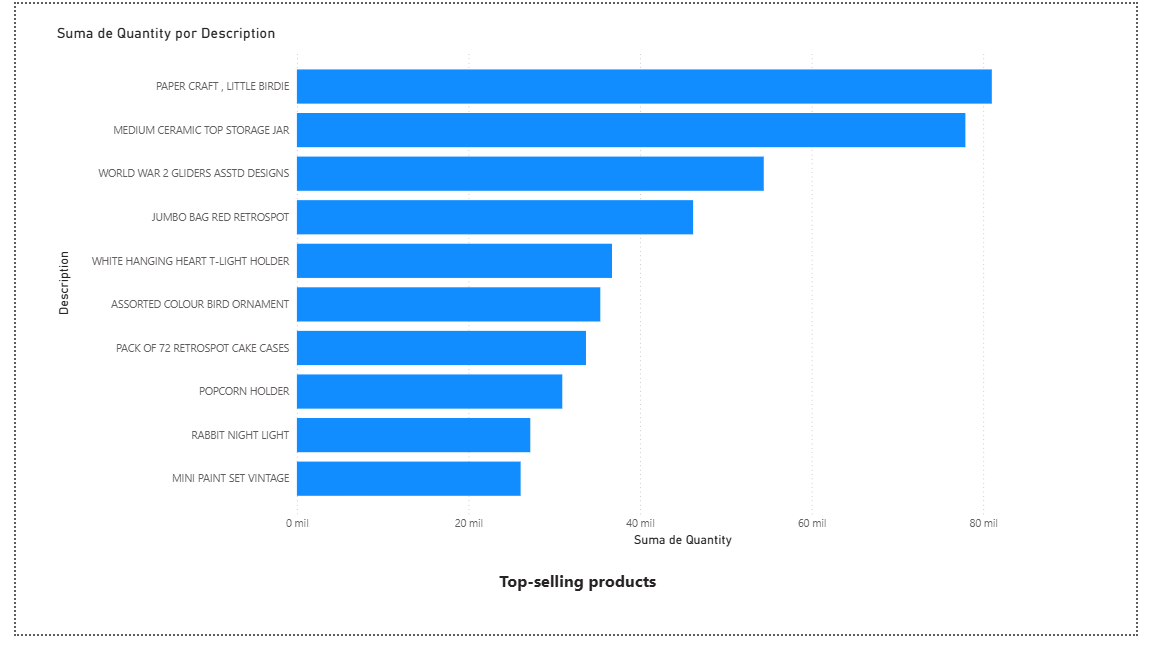

The dashboard page shown, as its layout file describes it:
{"tool":"powerbi","page":{"name":"Top productos","canvas":[1280,720],"ordinal":2},"visuals":[{"type":"barChart","fields":{"Y":["Sum(top_products.Quantity)"],"Category":["top_products.Description"]},"box":[41.4,22.9,1184.3,602.9],"z":0},{"type":"textbox","box":[547.1,641.4,211.4,45.7],"z":1}]}

Visuals, with their boxes in screenshot pixels (x1, y1, x2, y2), scaled from the page's 1280x720 canvas onto the 1162x646 screenshot:
barChart - Sum(top_products.Quantity) x top_products.Description: 38,21,1113,561
textbox: 497,575,689,616
